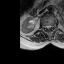CCS_normal: (47, 23, 49, 32)
LFS_normal: (52, 23, 54, 29)
LLS_normal: (49, 23, 52, 30)
RFS_stenosis: (43, 23, 45, 29)
RLS_normal: (45, 24, 47, 30)
